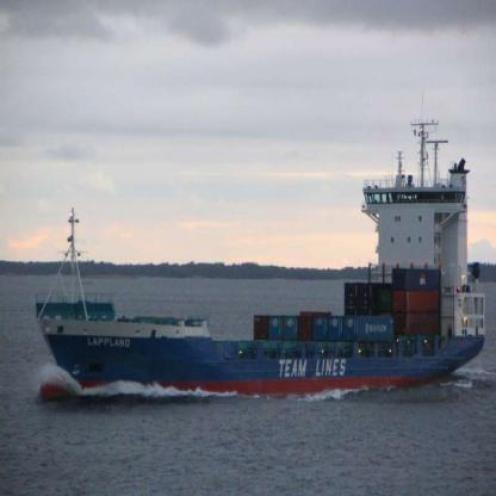Ship: (26, 265, 491, 392)
